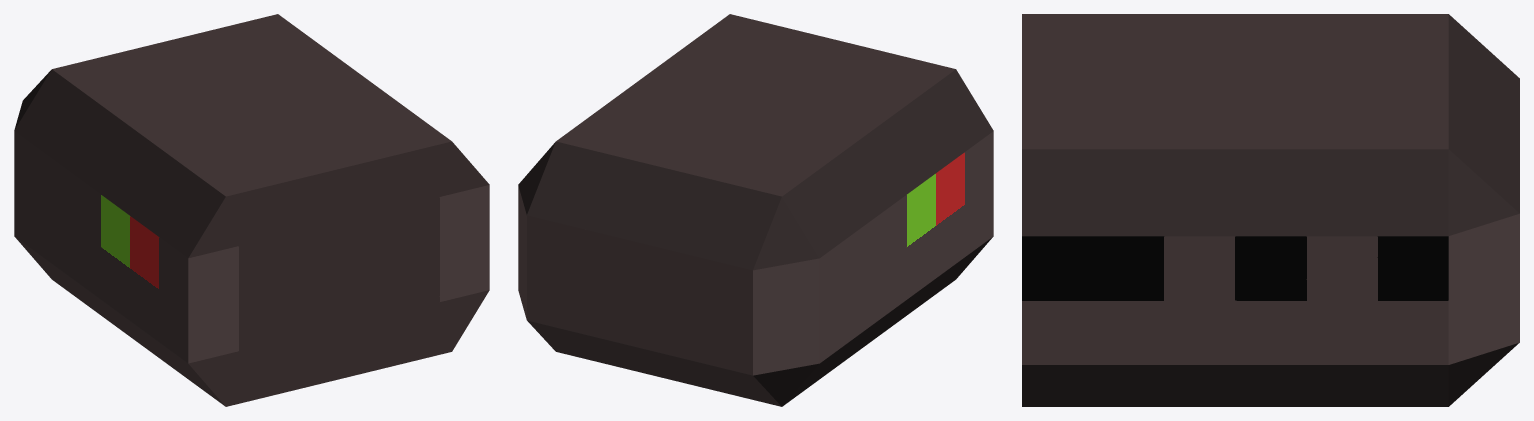
The model's file is Phone.gltf.
3 views of the same model, side by side, from view 1: azimuth 30°, elevation 25°; view 2: azimuth 150°, elevation 25°; view 3: azimuth 270°, elevation 25° (orthographic). The views are drawn at different scales.
Parts seen in each view (by area): view 1: beveled_cuboid; view 2: beveled_cuboid; view 3: beveled_cuboid.
Part boxes in pixels (box(x1,y1,x2,y2)): beveled_cuboid: box(14, 14, 489, 406); beveled_cuboid: box(518, 14, 993, 406); beveled_cuboid: box(1022, 14, 1519, 406).
Bounding box in the file's own units: 0.375 × 0.25 × 0.4375.
1 material, 1 textured.
